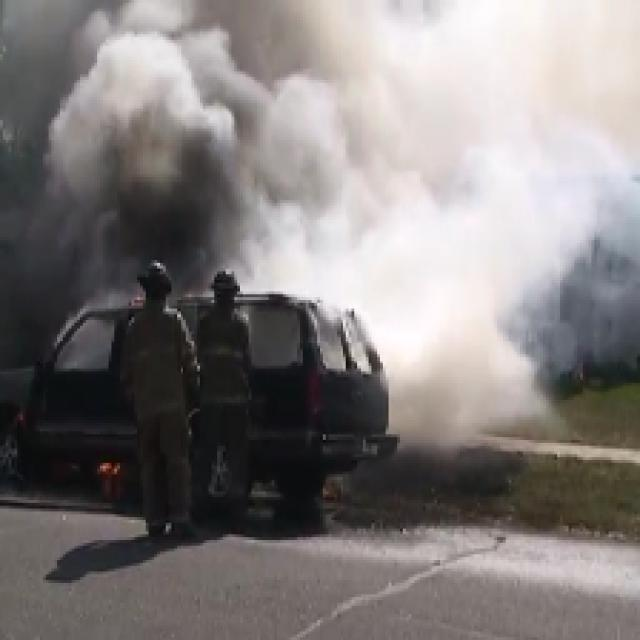smoke: (44, 20, 567, 252), (392, 256, 527, 455)
